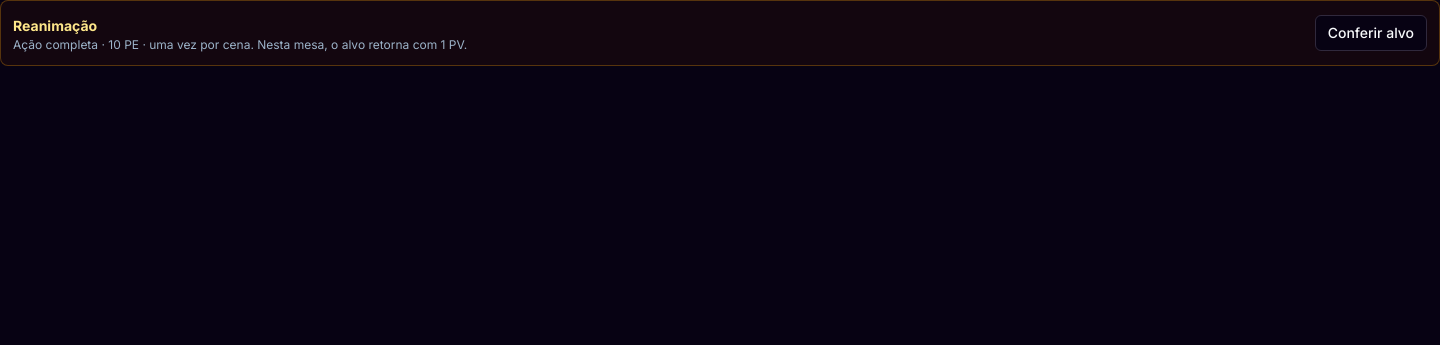
Scenario: Reanimação com morte confirmada pelo mestre › só confirma a ação completa com morte elegível, PE e orçamento do turno
This screenshot has width=1440, height=345.
Later steps or results of the test are not shown.
Click the button "Conferir alvo" at {"x": 1371, "y": 33}, box [1315,15,1427,51]
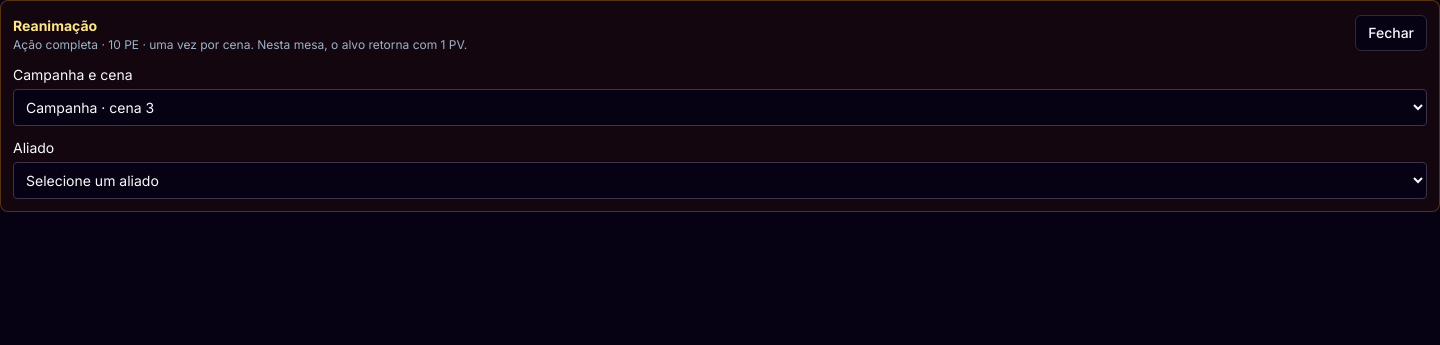
Select "Aliado · 0/20 PV" in the dropdown named "Alvo de Reanimação" at {"x": 720, "y": 180}, box [13,162,1427,199]
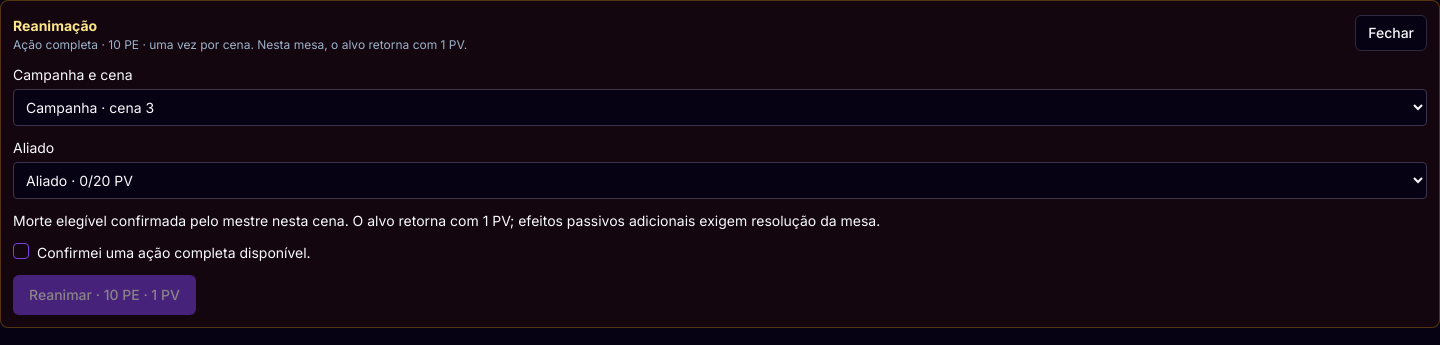
Expected: the button "Reanimar · 10 PE · 1 PV" is disabled, [13,275,196,315]
